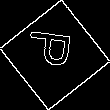P_E: (28, 34, 82, 76)
